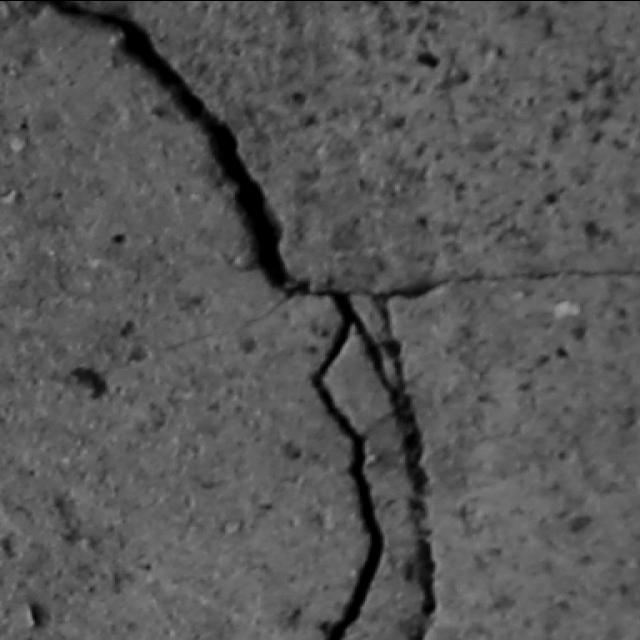crack: (5, 1, 317, 289), (306, 274, 444, 639), (448, 262, 638, 284)
